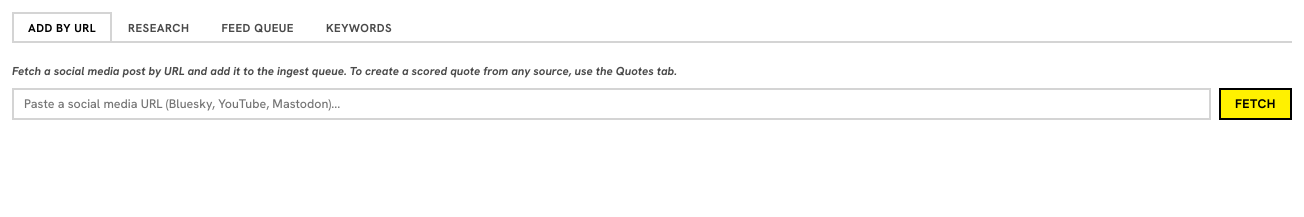
Test: SocialFeedTab — sub-nav › switches to the Keywords view when its tab is clicked
The width and height of the screenshot is (1304, 217).
Click the button "Keywords" at (359, 26), box [310,12,408,41]
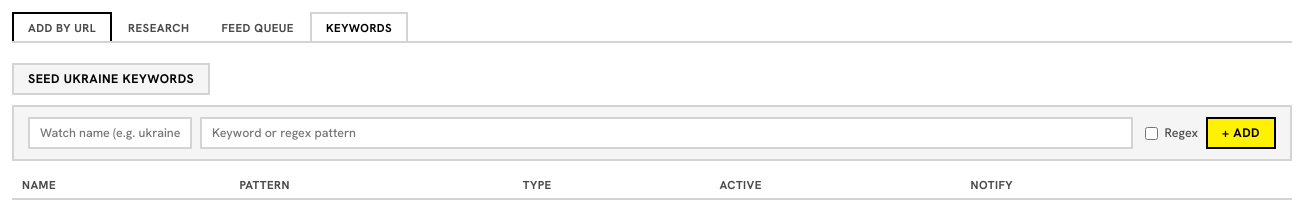
Check: the field with placeholder "Watch name (e.g. ukraine)" is shown, box [28,117,192,149]
